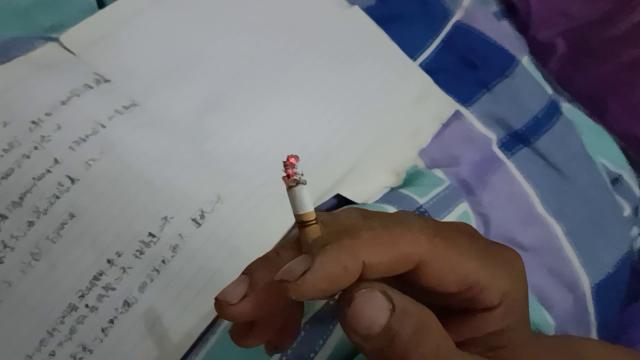Cigarette: (284, 154, 332, 278)
